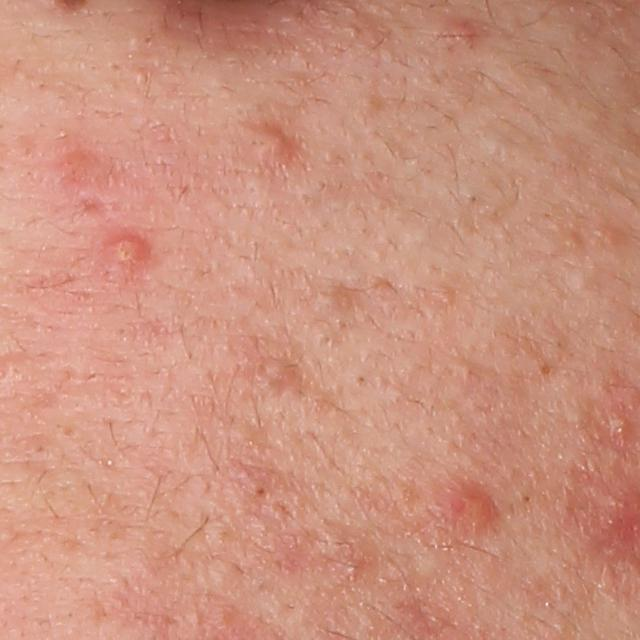comedo: (249, 481, 271, 500), (350, 371, 369, 390)
papule: (433, 484, 506, 531), (57, 141, 117, 183), (242, 122, 297, 161), (443, 7, 476, 55)
pustule: (99, 220, 153, 281)
